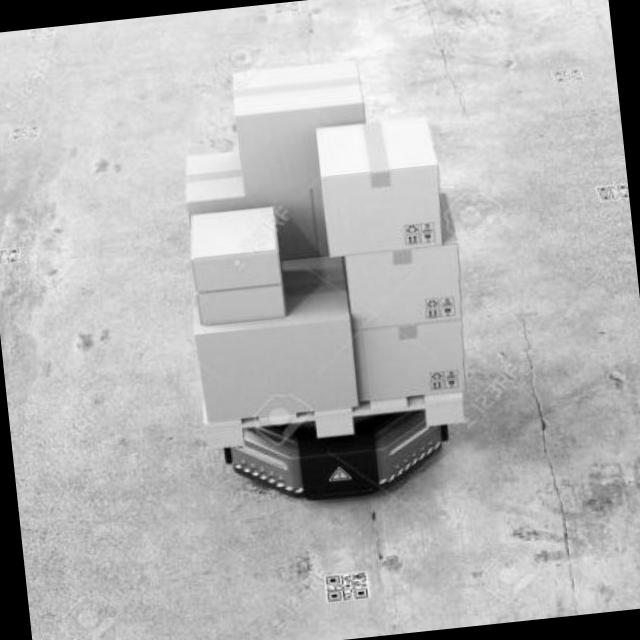box: (299, 101, 466, 264), (218, 46, 387, 204), (178, 279, 356, 426), (332, 213, 478, 329), (176, 202, 301, 328), (342, 304, 479, 413), (171, 146, 246, 232)
